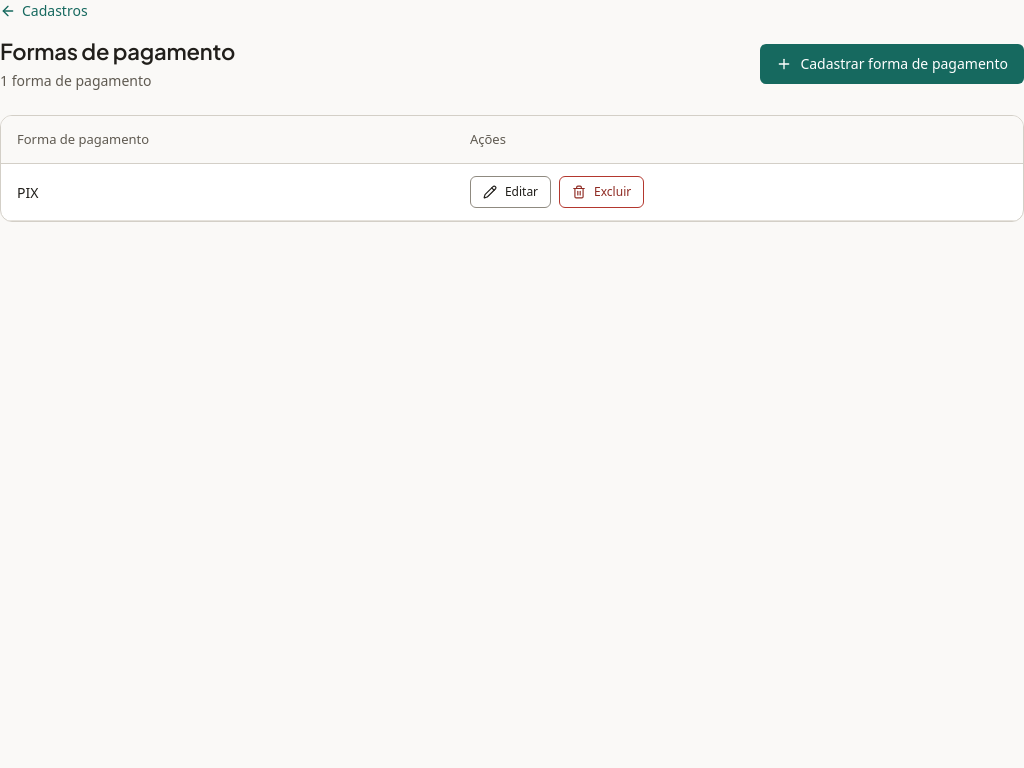
Formas de pagamento — o 422 pousa no campo, e o formulário fica aberto › deve mostrar o nome duplicado no campo Nome sem perder o que foi digitado
The width and height of the screenshot is (1024, 768).
Check: the text "PIX" is shown, box [1,164,454,221]
Click the button "Cadastrar forma de pagamento" at x=892, y=64, box [760,44,1023,84]
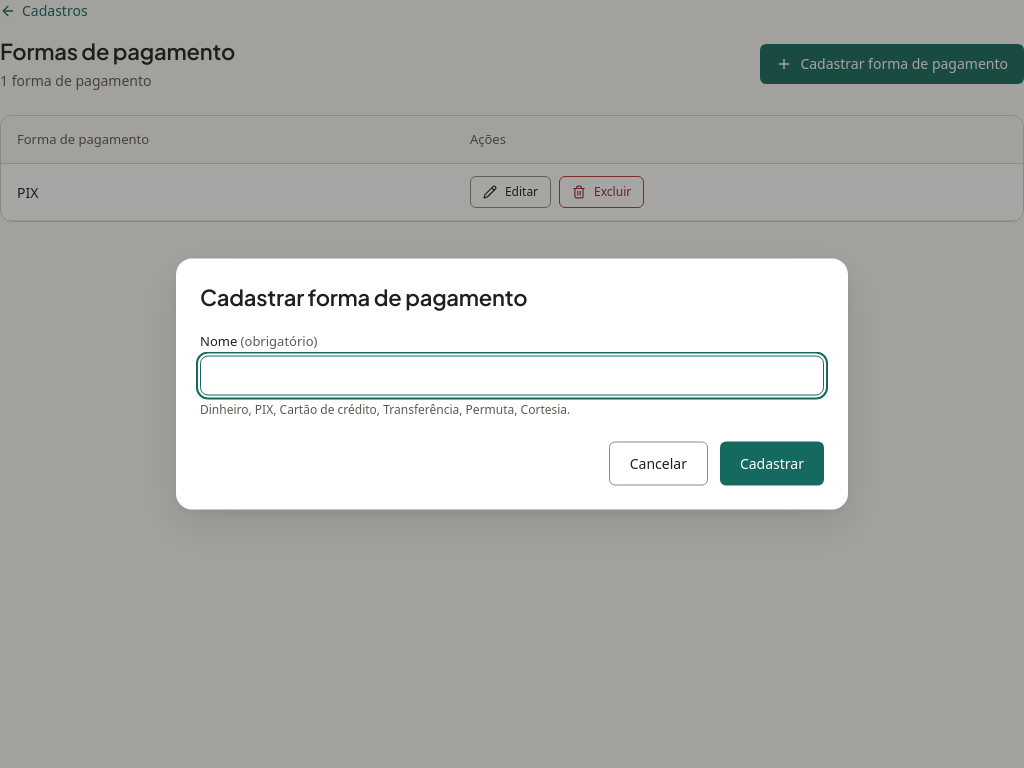
Type "PIX" into the field labelled "Nome (obrigatório)" at x=512, y=375, box [200,355,824,395]
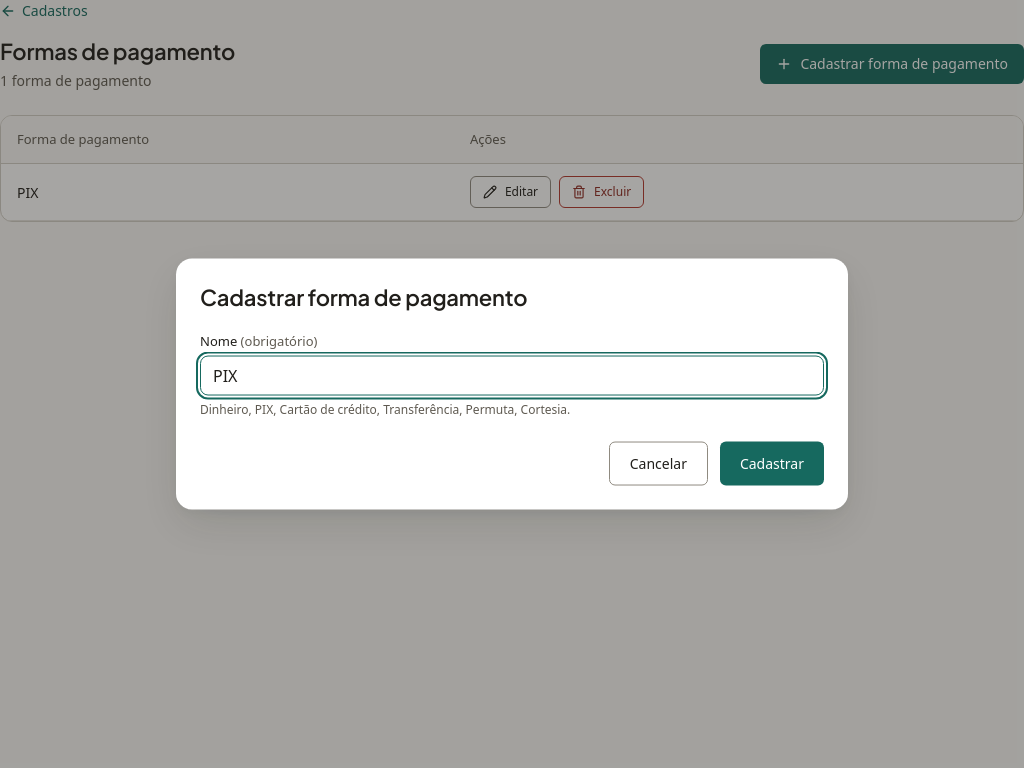
Click the button "Cadastrar" at x=772, y=464, box [720,442,824,486]
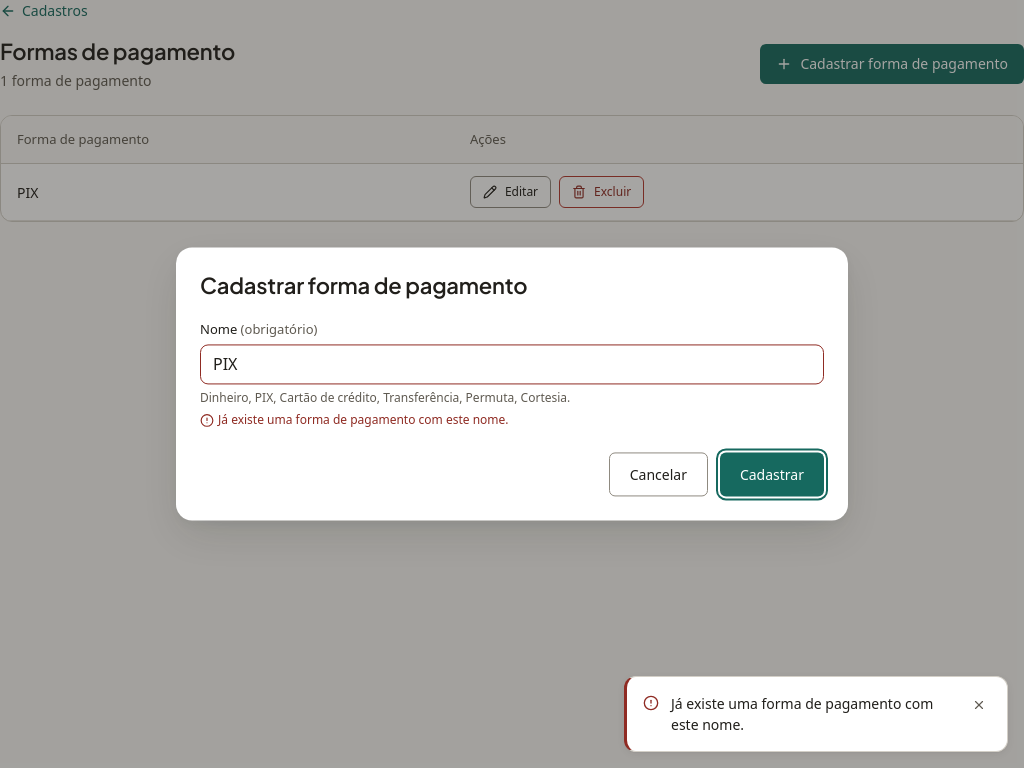
Check: the text "Já existe uma forma de pagamento com este nome." is shown, box [200,411,509,428]
